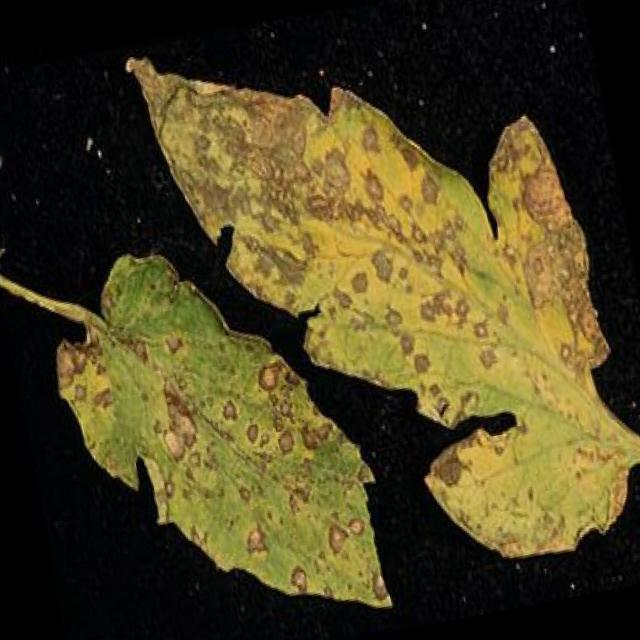Septoria: (137, 0, 613, 438), (75, 234, 401, 640)
